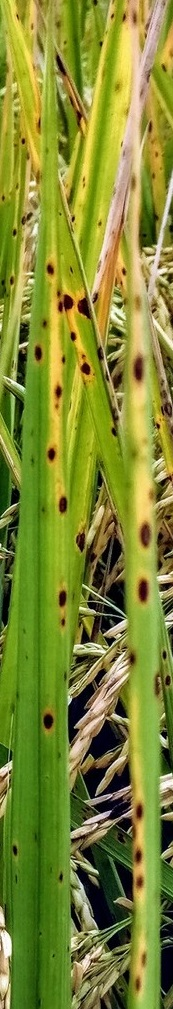Bercak Coklat: (74, 292, 96, 328), (131, 346, 147, 395), (36, 706, 59, 736), (134, 572, 151, 609), (52, 582, 72, 609), (55, 484, 70, 518), (39, 442, 62, 463), (76, 357, 95, 381), (48, 378, 68, 399), (138, 520, 152, 550), (62, 327, 85, 345), (7, 836, 23, 861), (131, 800, 149, 822), (42, 253, 56, 281), (129, 873, 152, 890), (58, 291, 76, 312), (33, 337, 46, 364), (133, 839, 145, 865), (160, 670, 173, 691)
